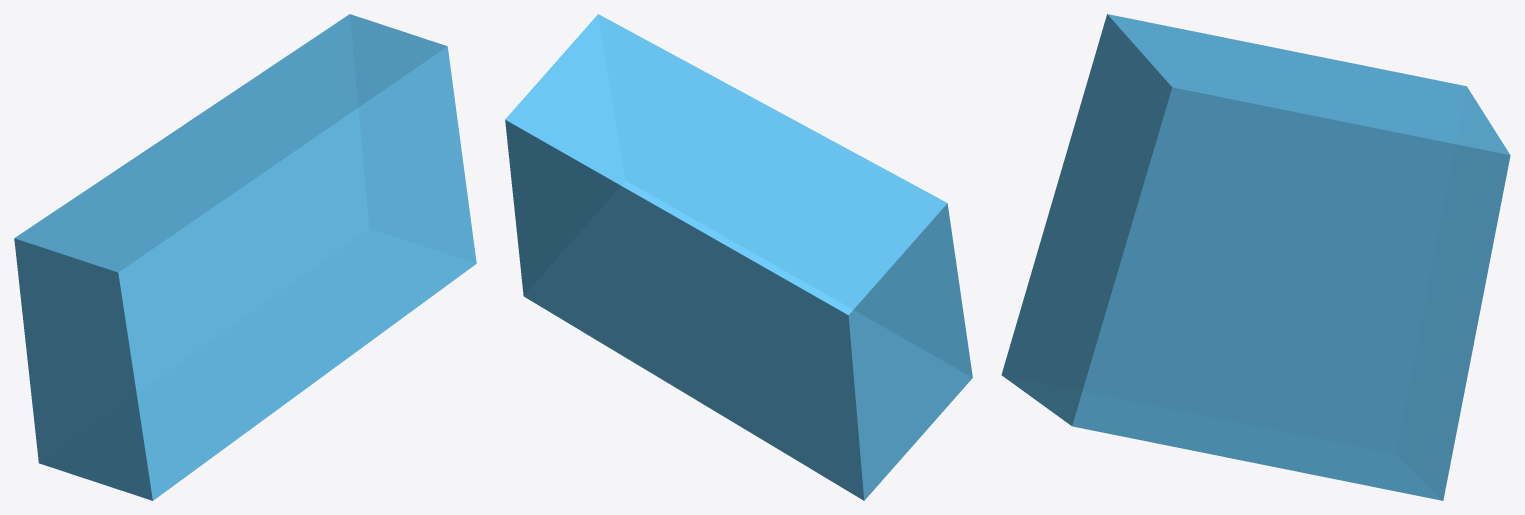
The model's file is Event_420094457_HErechit_55.fbx.
3 renders of one model, left to right at view 1: azimuth 30°, elevation 25°; view 2: azimuth 150°, elevation 25°; view 3: azimuth 270°, elevation 25°, orthographic. The views are drawn at different scales.
Visible parts, largest first — view 1: Model; view 2: Model; view 3: Model.
Part boxes in pixels (bbox=[...]): Model: bbox=[14, 14, 476, 500]; Model: bbox=[505, 14, 972, 500]; Model: bbox=[1001, 14, 1510, 500].
Size of the model in its own units: 0.7023 by 0.7329 by 0.5145.
